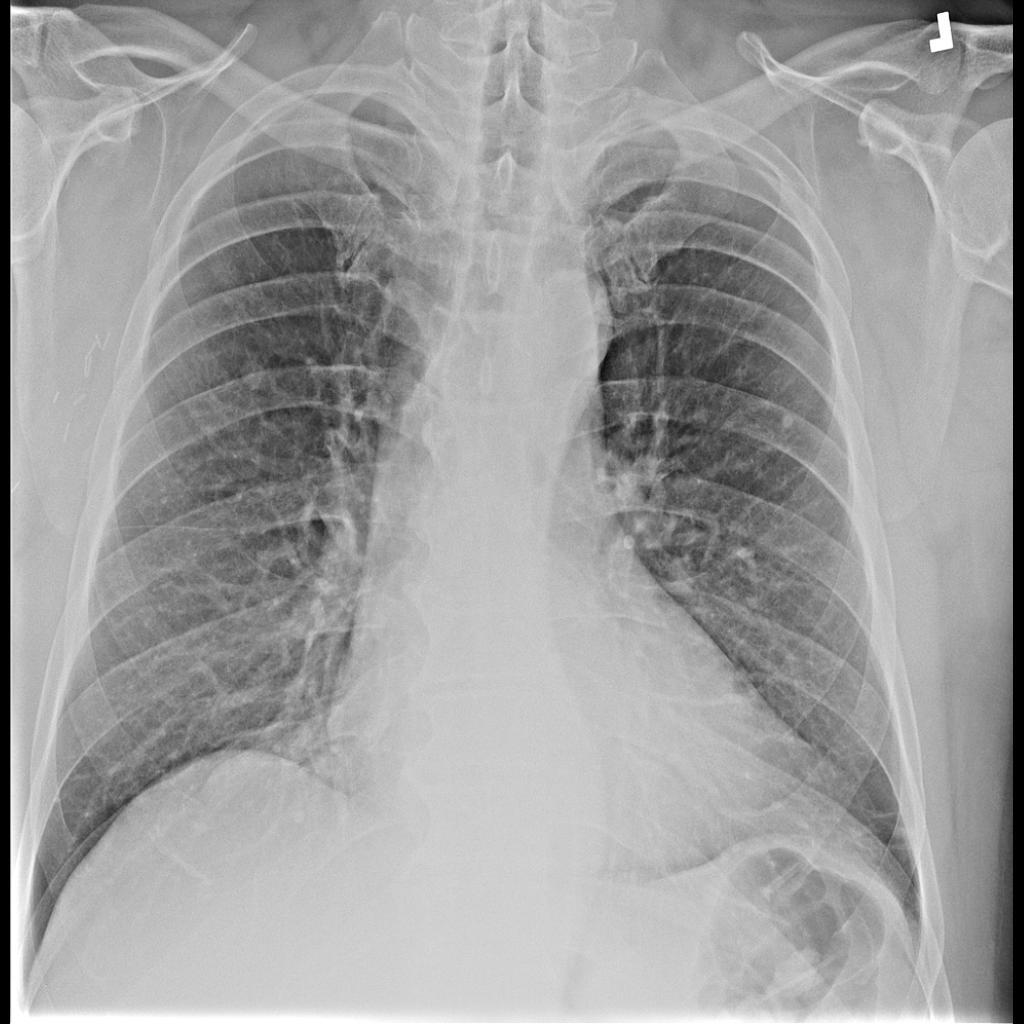Nodule: (235, 346, 273, 401)
